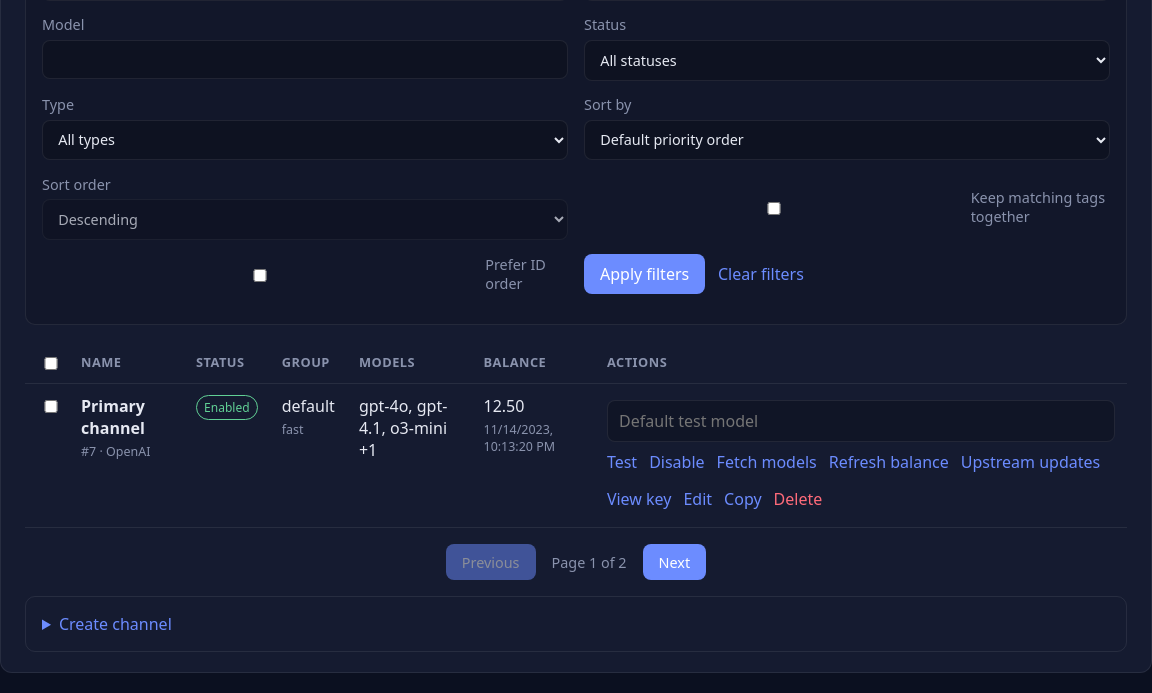
Test: ChannelAdminView › offers full-key verification only when the authenticated operator is root
The image size is (1152, 693).
(page scrolled)
Click the button "View key". click: {"x": 639, "y": 499}
box: [607,482,672,516]
(page scrolled)
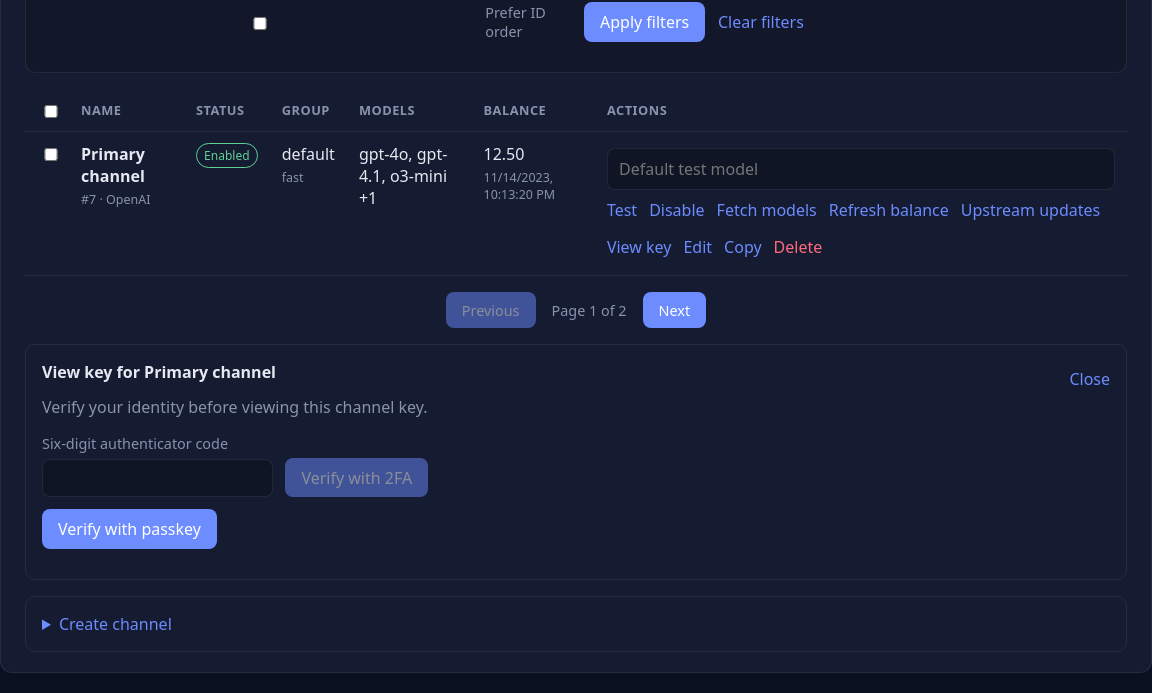
Result: the heading "View key for Primary channel" is shown at [42,361,276,383]
